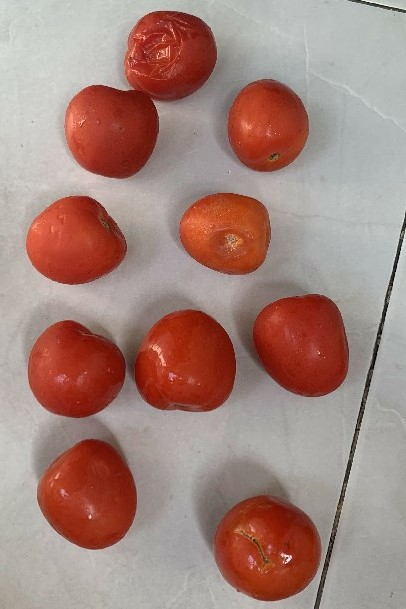NG: (207, 492, 327, 604), (120, 8, 225, 104), (175, 185, 272, 278)
OK: (129, 306, 238, 415), (35, 438, 140, 550), (250, 291, 355, 401), (24, 314, 126, 423), (19, 192, 127, 287), (58, 80, 159, 178), (227, 75, 310, 173)
